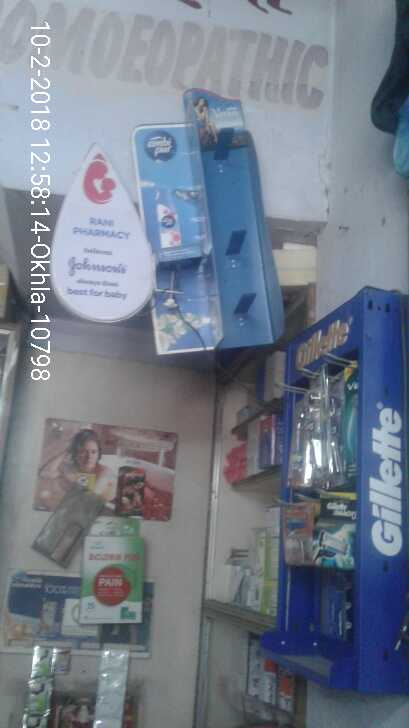reject: (153, 343, 241, 457)
